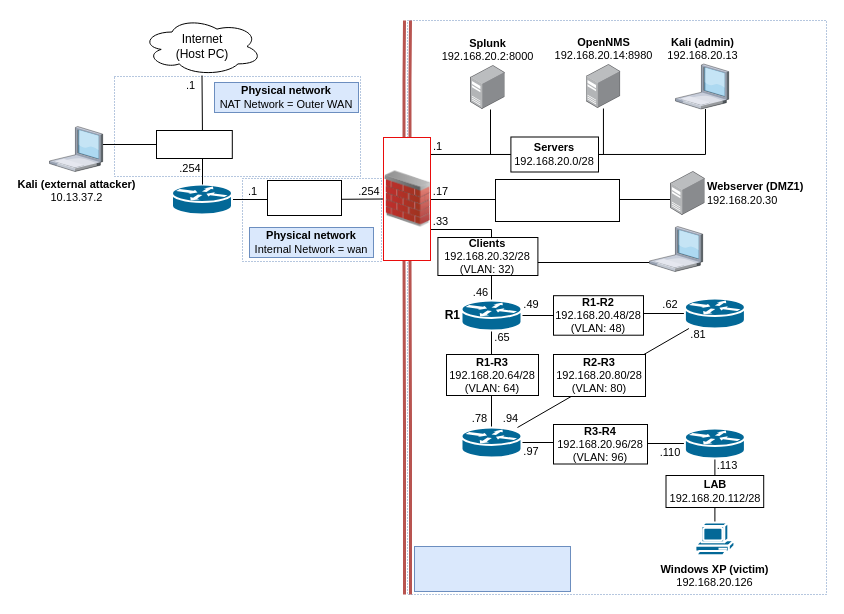
The diagram is 844 pixels wide and 614 high, and some of its shapes have lost their labels. The centre of each missing label's shape, as x and y in pixels:
"DMZ1 (single staged) 192.168.20.16/28 (VLAN: 16)" belongs at point 557,200.
"Kali (internal attacker) 192.168.20.40" belongs at point 675,248.
"Outer WAN 10.13.37.0/24" belongs at point 194,144.
"pfSense FW" belongs at point 406,198.
"Physical network Internal Network = project_net" belongs at point 492,569.
"R2" belongs at point 714,313.
"R3" belongs at point 491,442.
"R4" belongs at point 714,443.
"WAN 172.16.1.0/24" belongs at point 304,198.
"WAN Router" belongs at point 201,199.
